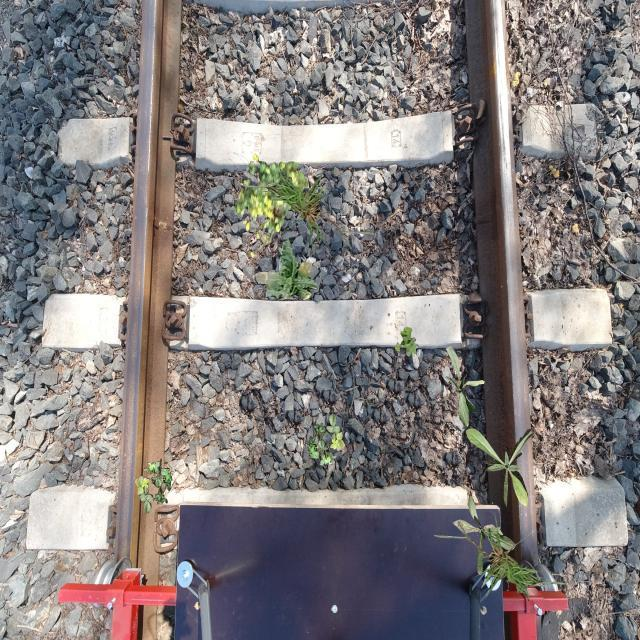Plant: (434, 512, 578, 602), (232, 168, 376, 258), (235, 154, 310, 259), (466, 427, 538, 508), (453, 492, 517, 576), (255, 238, 318, 300), (445, 345, 485, 428), (308, 414, 346, 469), (135, 459, 172, 514), (395, 326, 419, 356)
